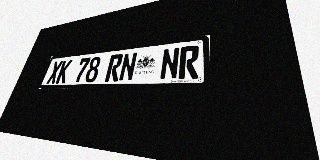7: (73, 57, 91, 83)
8: (84, 56, 102, 82)
K: (55, 59, 73, 83)
N: (159, 47, 180, 80), (118, 52, 138, 81)
R: (178, 45, 199, 79), (104, 54, 124, 82)
X: (46, 61, 63, 84)
